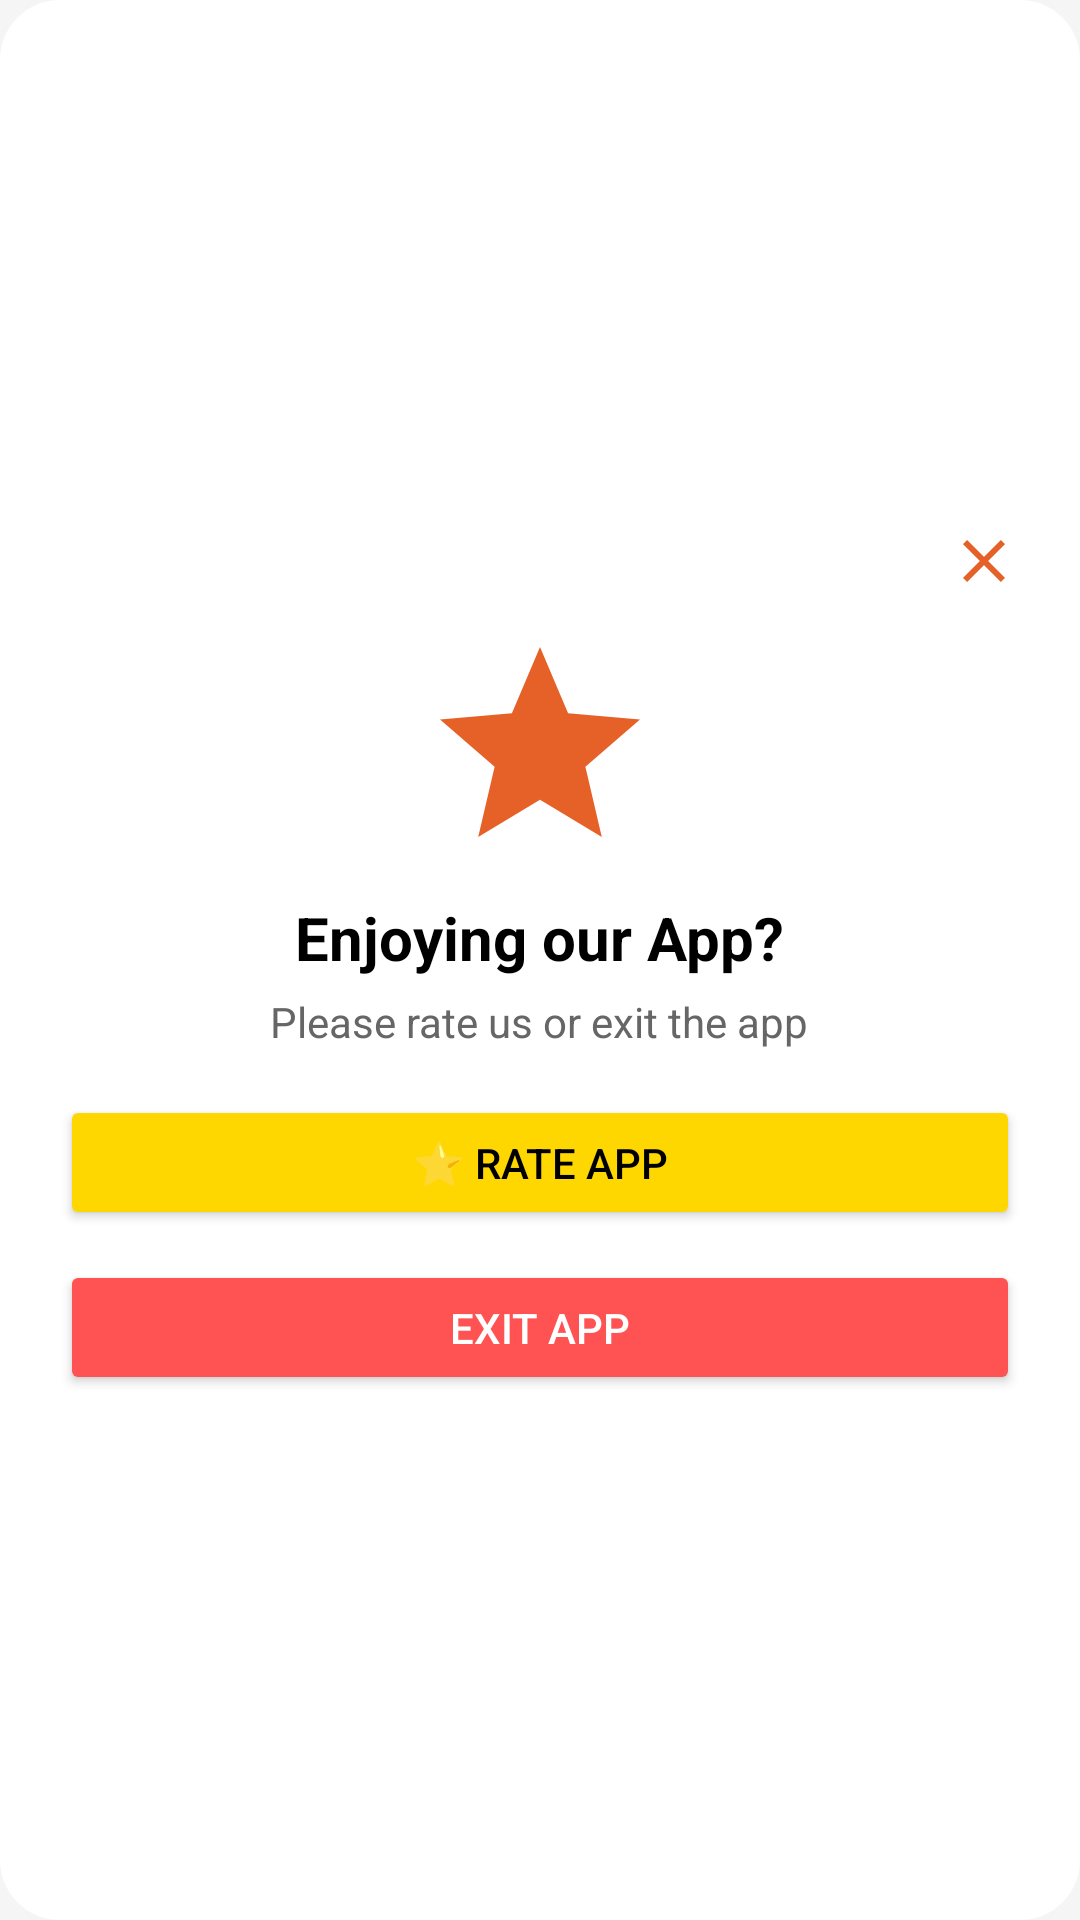

Icon bounding boxes for this 1080px x 1920px phone screenshot, format bbox=[x1, y1, x2, y2]:
close: bbox=[963, 540, 1005, 582]
star: bbox=[440, 647, 640, 837]
